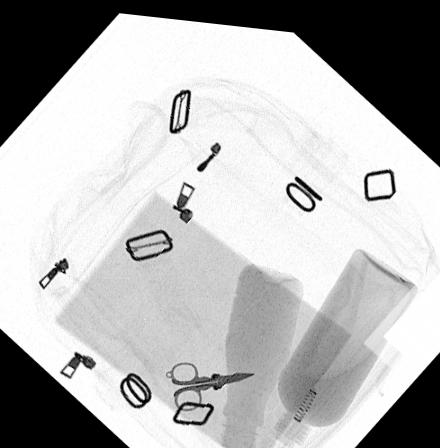Scissors: (167, 357, 255, 407)
